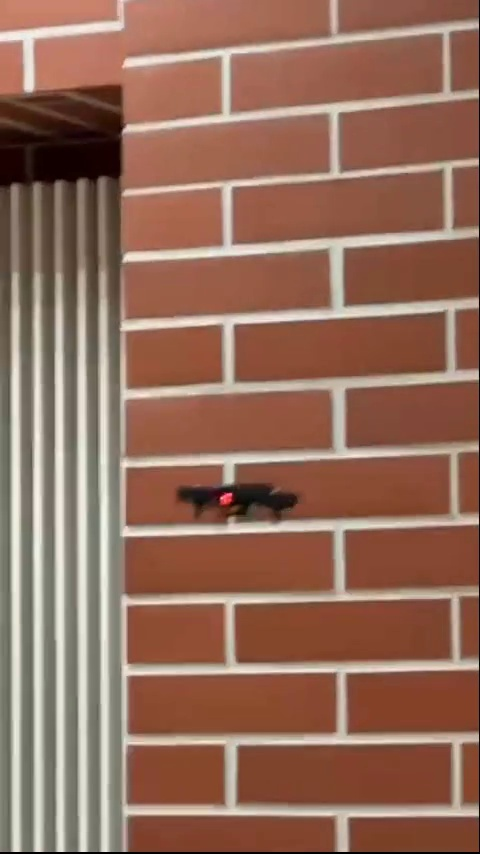drone: (174, 479, 299, 524)
